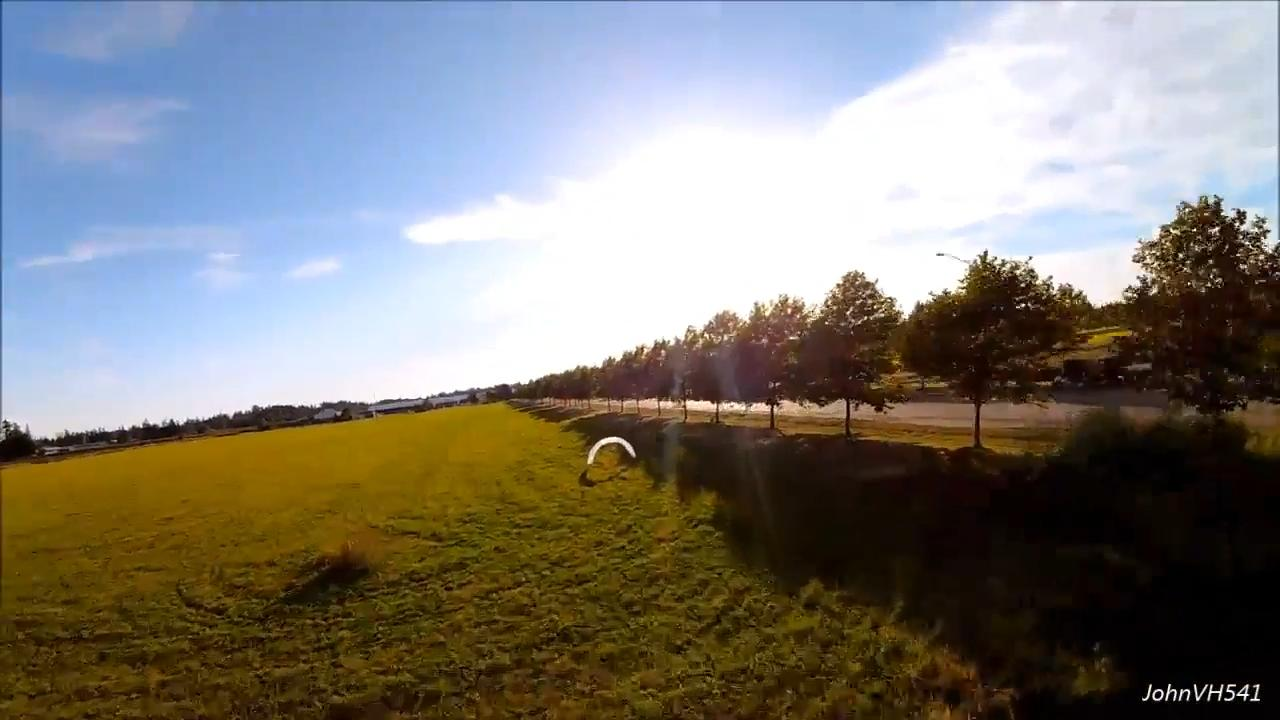gate: (583, 436, 635, 467)
